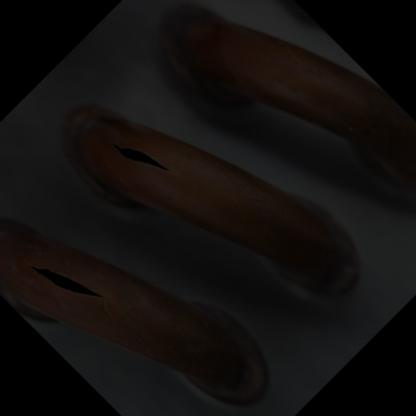burst: (99, 137, 185, 181), (32, 264, 101, 305)
